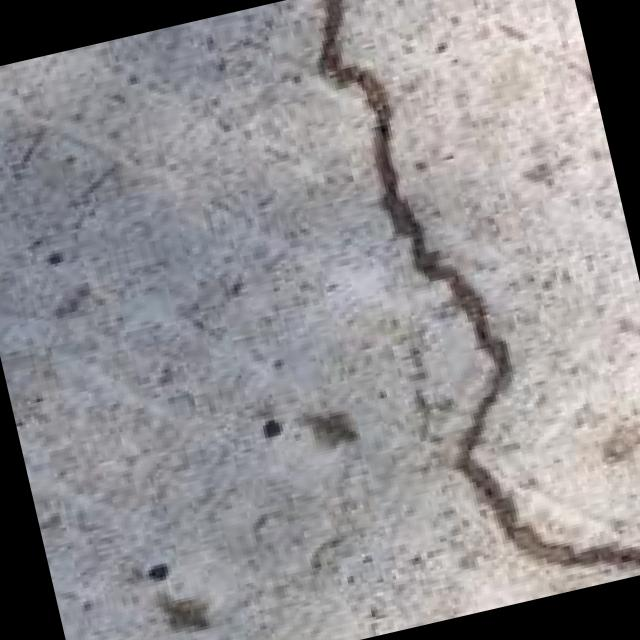crack: (276, 0, 640, 622)
